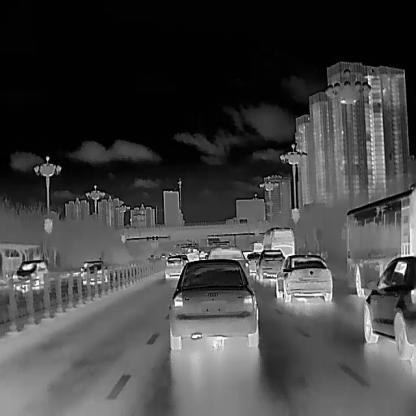car: (340, 183, 416, 297), (167, 256, 258, 350), (362, 254, 415, 360), (274, 252, 332, 301), (208, 245, 250, 285), (11, 258, 48, 292), (261, 225, 295, 261), (254, 248, 286, 281), (79, 259, 109, 285), (165, 254, 187, 278), (247, 253, 260, 271)
